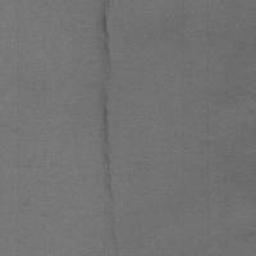Inclusion: (97, 0, 120, 241)
